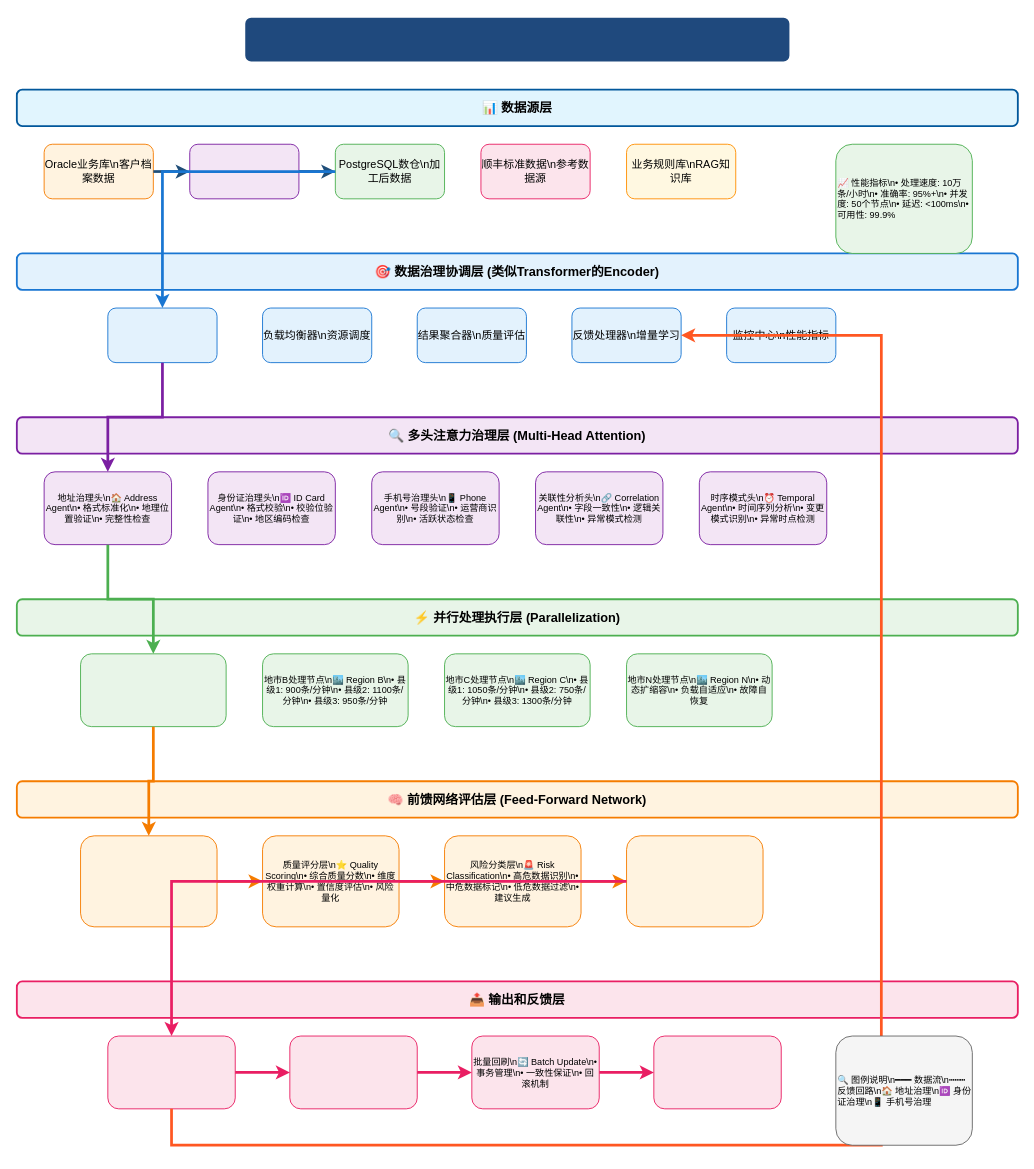
Some shapes in this 1034 by 1169 pixel diagram are drawn without their labels. The shapes that lost their labels are listed below. From the top down, each one's centre as x and y in pixels, then its label:
[517,39]: 基于Transformer架构思想的数据治理系统
[244,171]: 数据中台\nT+1同步
[162,335]: 任务调度器\n智能分片
[153,690]: 地市A处理节点\n🏙️ Region A\n• 县级1: 1000条/分钟\n• 县级2: 1200条/分钟\n• 县级3: 800条/分钟
[148,881]: 特征提取层\n📊 Feature Extraction\n• 完整性特征\n• 准确性特征\n• 一致性特征\n• 时效性特征
[694,881]: 建议生成层\n💡 Suggestion Generation\n• 治理方案推荐\n• 优先级排序\n• 成本效益分析\n• 执行计划
[171,1072]: 人工审核\n👥 Human Review\n• 高危数据核实\n• 治理建议确认\n• 质量反馈
[353,1072]: 暂存库\n🗄️ Staging DB\n• PostgreSQL\n• 治理结果存储\n• 版本管理
[717,1072]: 业务库更新\n🏛️ Oracle Update\n• 原子性操作\n• 数据备份\n• 变更日志
